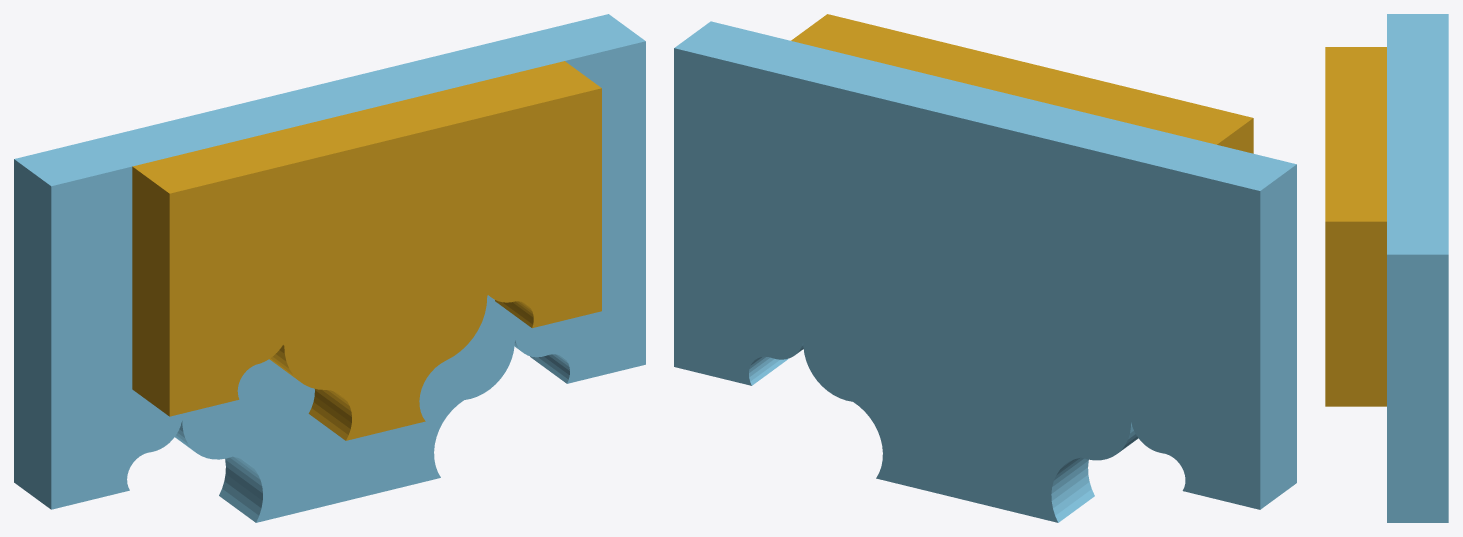
The model's file is Prop_Building_Eastern_Ornamental_Facade_Block_05.FBX.
3 renders of one model, left to right at view 1: azimuth 30°, elevation 25°; view 2: azimuth 150°, elevation 25°; view 3: azimuth 270°, elevation 25°, orthographic. The views are drawn at different scales.
Visible parts, largest first — view 1: Prop_Building_Eastern_Ornamental_Facade_Block_05; view 2: Prop_Building_Eastern_Ornamental_Facade_Block_05; view 3: Prop_Building_Eastern_Ornamental_Facade_Block_05.
Boxes of the visible parts, bbox=[...] form: Prop_Building_Eastern_Ornamental_Facade_Block_05: bbox=[14, 14, 645, 522]; Prop_Building_Eastern_Ornamental_Facade_Block_05: bbox=[674, 14, 1296, 522]; Prop_Building_Eastern_Ornamental_Facade_Block_05: bbox=[1325, 14, 1448, 522].
Size of the model in its own units: 1213 by 754 by 263.
